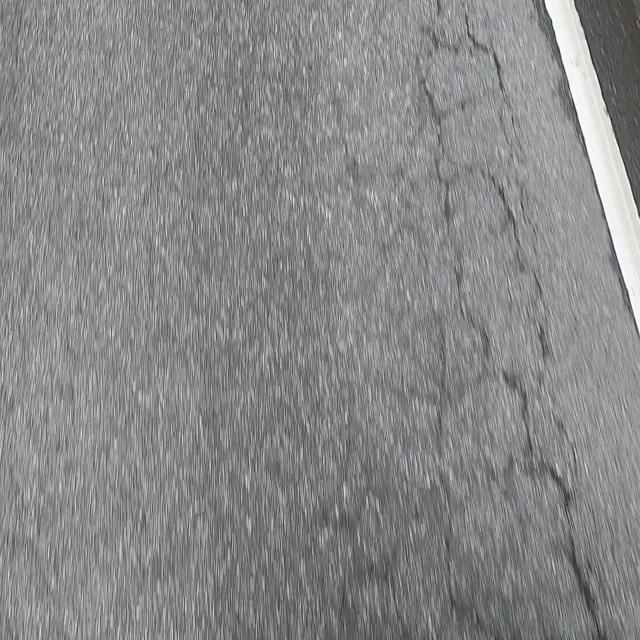Retak-Buaya: (332, 0, 617, 638)
